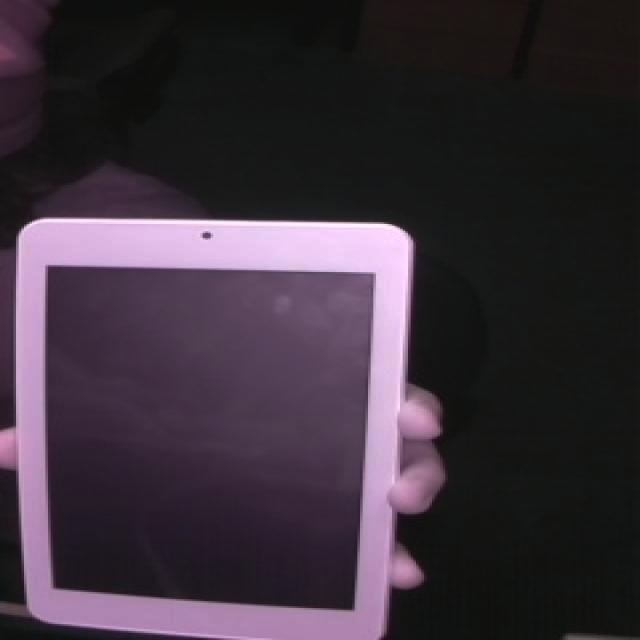phone: (9, 210, 444, 636)
